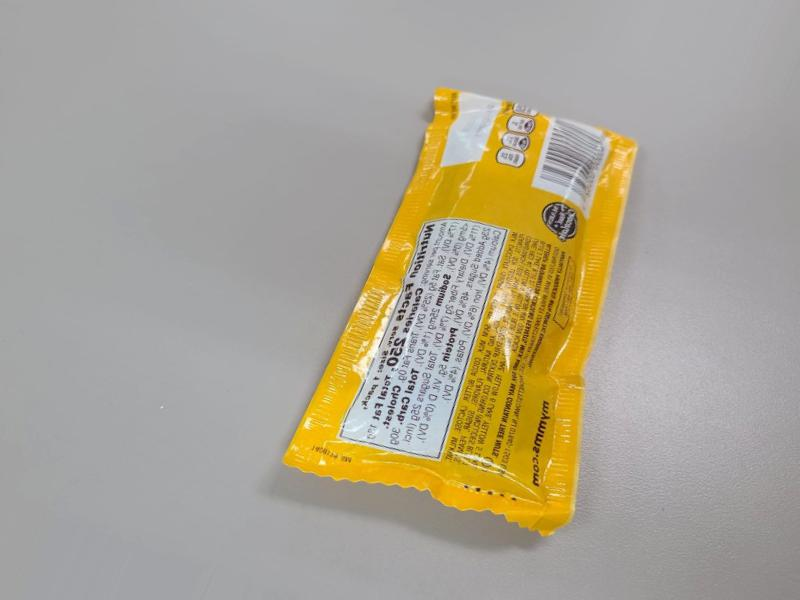m&m: (270, 76, 636, 507)
